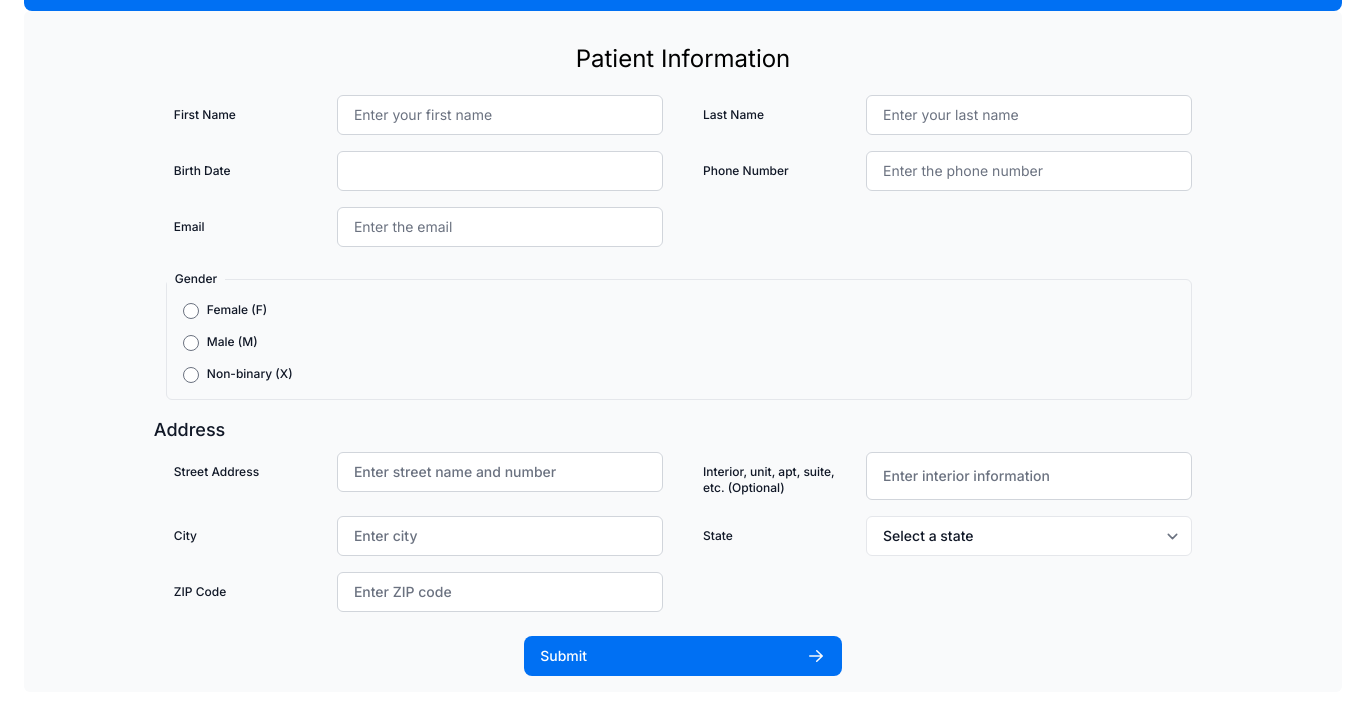
Patient Intake Form › Should show error messages when submitting empty form
The image size is (1366, 709).
(page scrolled)
Click the submit button: coordinates (564, 656) [524, 636, 842, 676]
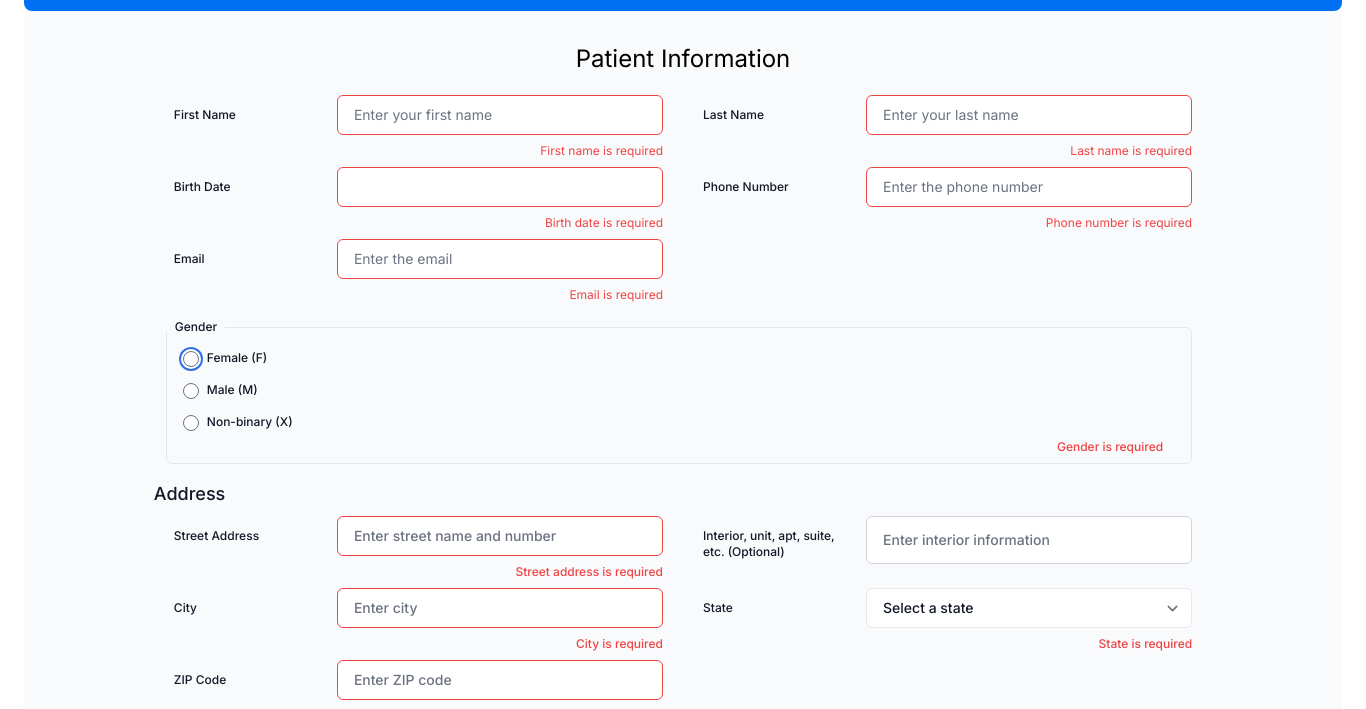
Now the text "First name is required" is shown, box [540, 143, 683, 159]
Now the text "Last name is required" is shown, box [1070, 143, 1212, 159]
Now the text with test id "birthDate-error" reads "Birth date is required", box [545, 215, 683, 231]
